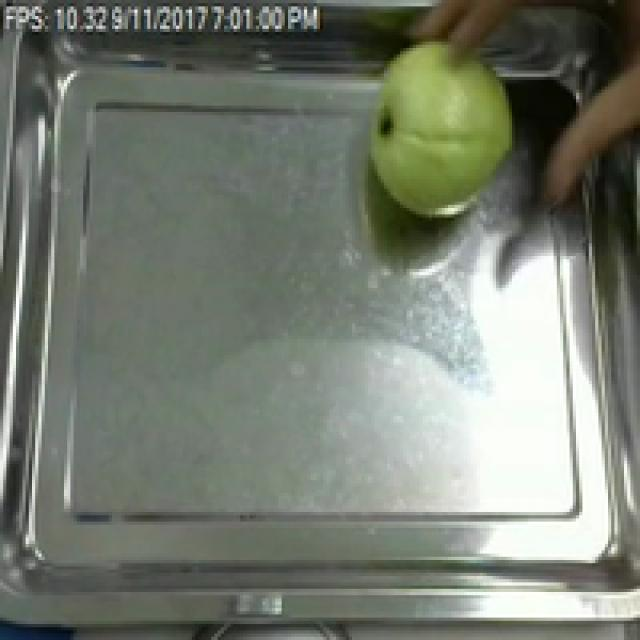Fruit: (355, 29, 531, 230)
